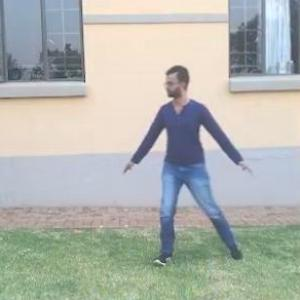land: (125, 70, 251, 235)
